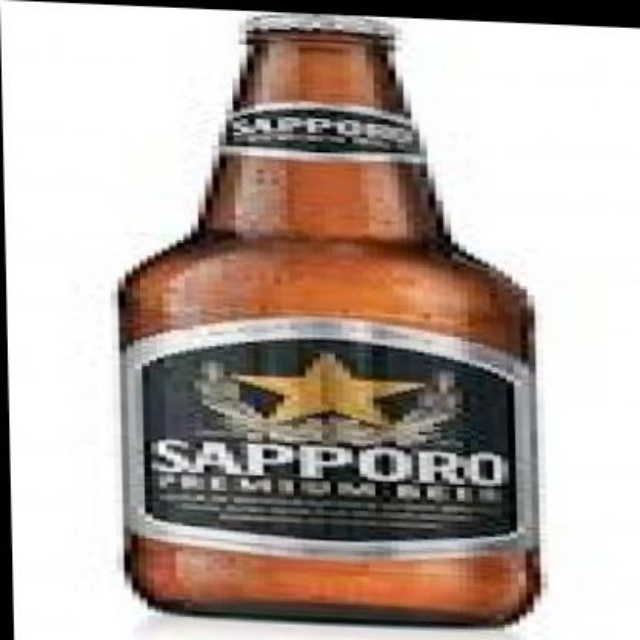trash: (120, 15, 538, 623)
